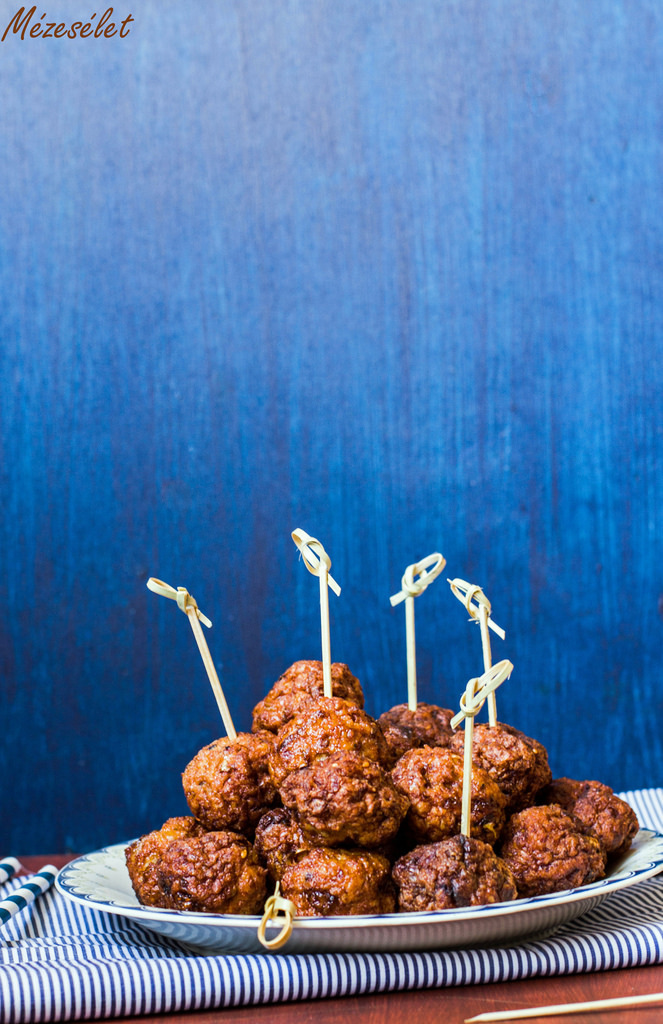meatballs: (136, 692, 645, 904)
